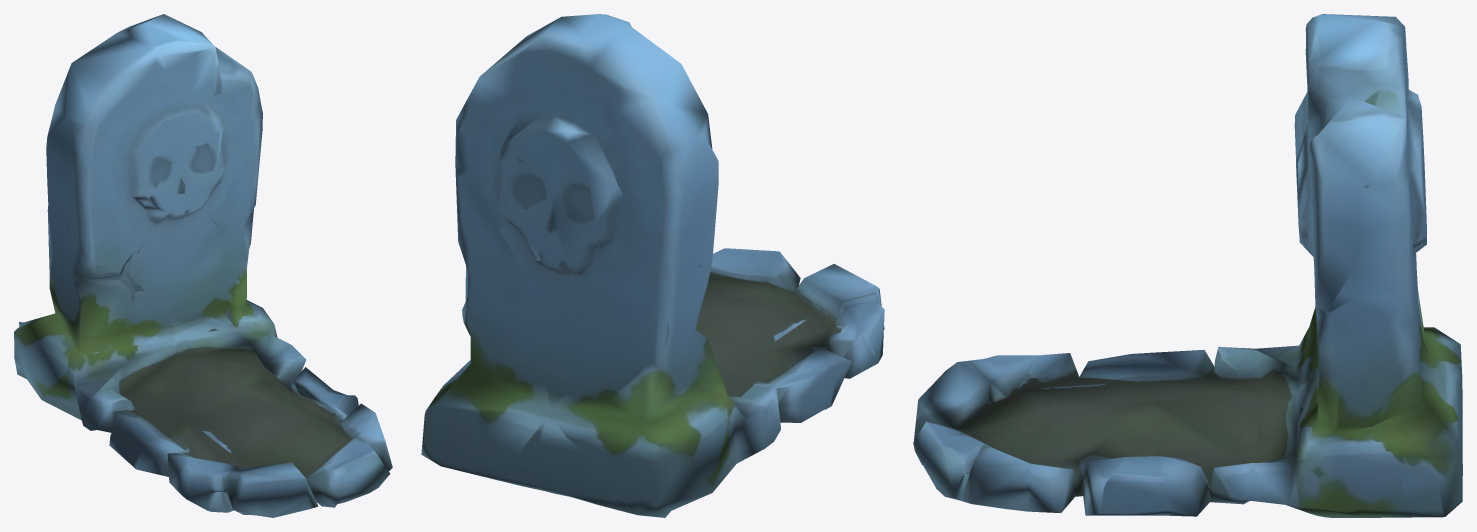
Rendered from gy_slab-WOZNQAfJ.glb.
3 renders of one model, left to right at view 1: azimuth 30°, elevation 25°; view 2: azimuth 150°, elevation 25°; view 3: azimuth 270°, elevation 25°, orthographic. The views are drawn at different scales.
Parts seen in each view (by area): view 1: tripo_node_eb9d5064-bb6e-4ea3-a3ba-faaadc942fa7; view 2: tripo_node_eb9d5064-bb6e-4ea3-a3ba-faaadc942fa7; view 3: tripo_node_eb9d5064-bb6e-4ea3-a3ba-faaadc942fa7.
Part boxes in pixels (left/top/right/bottom): tripo_node_eb9d5064-bb6e-4ea3-a3ba-faaadc942fa7: left=14, top=14, right=392, bottom=517; tripo_node_eb9d5064-bb6e-4ea3-a3ba-faaadc942fa7: left=421, top=14, right=884, bottom=517; tripo_node_eb9d5064-bb6e-4ea3-a3ba-faaadc942fa7: left=913, top=14, right=1462, bottom=517.
Bounding box in the file's own units: 0.5609 × 0.8884 × 1.
Materials: 1 (1 with a texture image).
